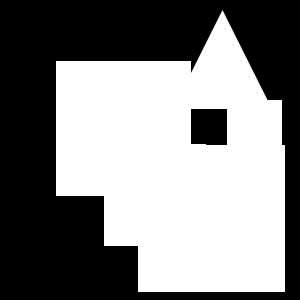circle: (138, 145, 285, 292), (56, 61, 191, 196), (104, 144, 206, 246), (227, 100, 282, 155)
triangle: (173, 10, 272, 109)
